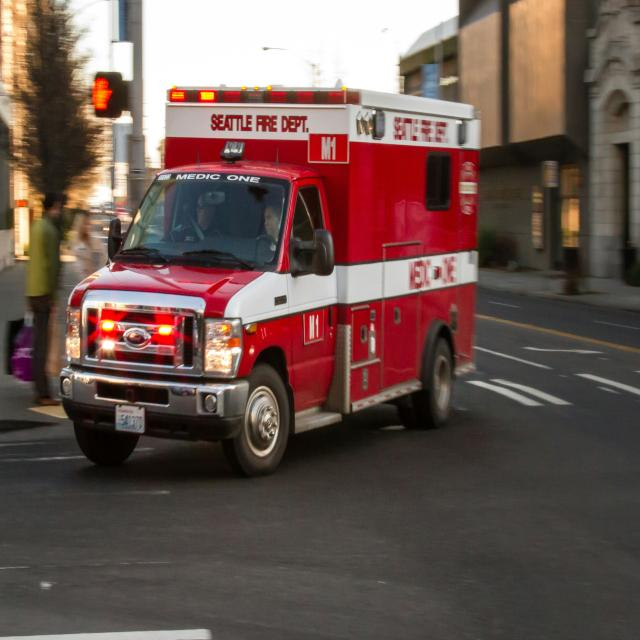emergency: (60, 88, 480, 476)
